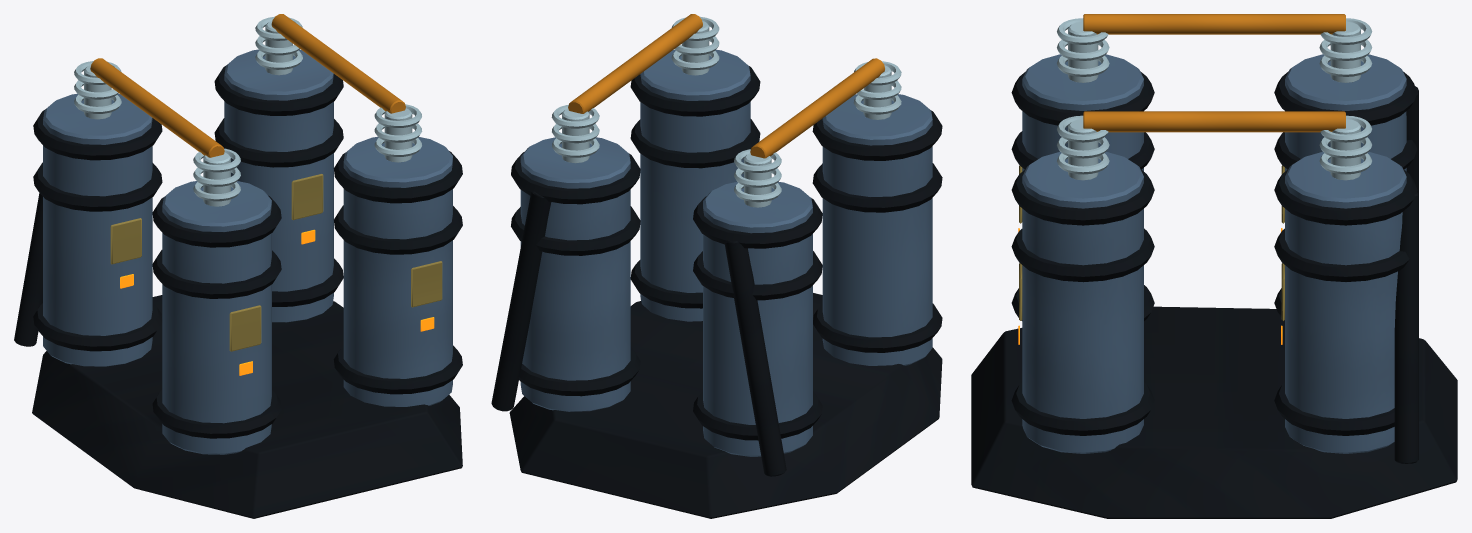
Rendered from Capacitor_Bank.fbx.
The picture shows the model from 3 angles, left to right: view 1: azimuth 30°, elevation 25°; view 2: azimuth 150°, elevation 25°; view 3: azimuth 270°, elevation 25°; orthographic projection. The views are drawn at different scales.
Visible parts, largest first — view 1: Capacitor_Bank; view 2: Capacitor_Bank; view 3: Capacitor_Bank.
Part boxes in pixels (bbox=[...]): Capacitor_Bank: bbox=[14, 14, 462, 518]; Capacitor_Bank: bbox=[491, 14, 942, 518]; Capacitor_Bank: bbox=[971, 14, 1457, 518].
Size of the model in its own units: 2.59 by 2.54 by 3.04.
